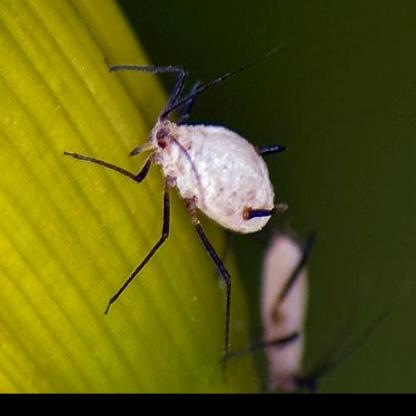aphid: (64, 43, 285, 372), (247, 227, 416, 394)
